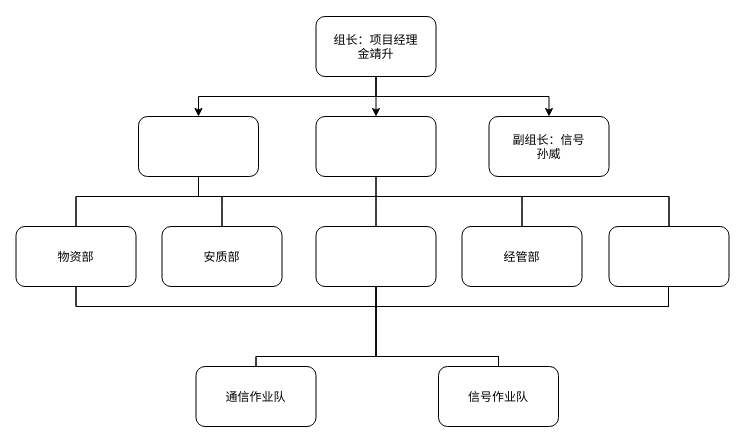
Some shapes in this 745 by 443 pixel diagram are drawn without their labels. Each missing label, with the centre of its shape:
副组长：总工程师 徐启程: (x=198, y=146)
副组长：通信 韩凯: (x=375, y=146)
办公室: (x=668, y=256)
计财部: (x=375, y=256)
